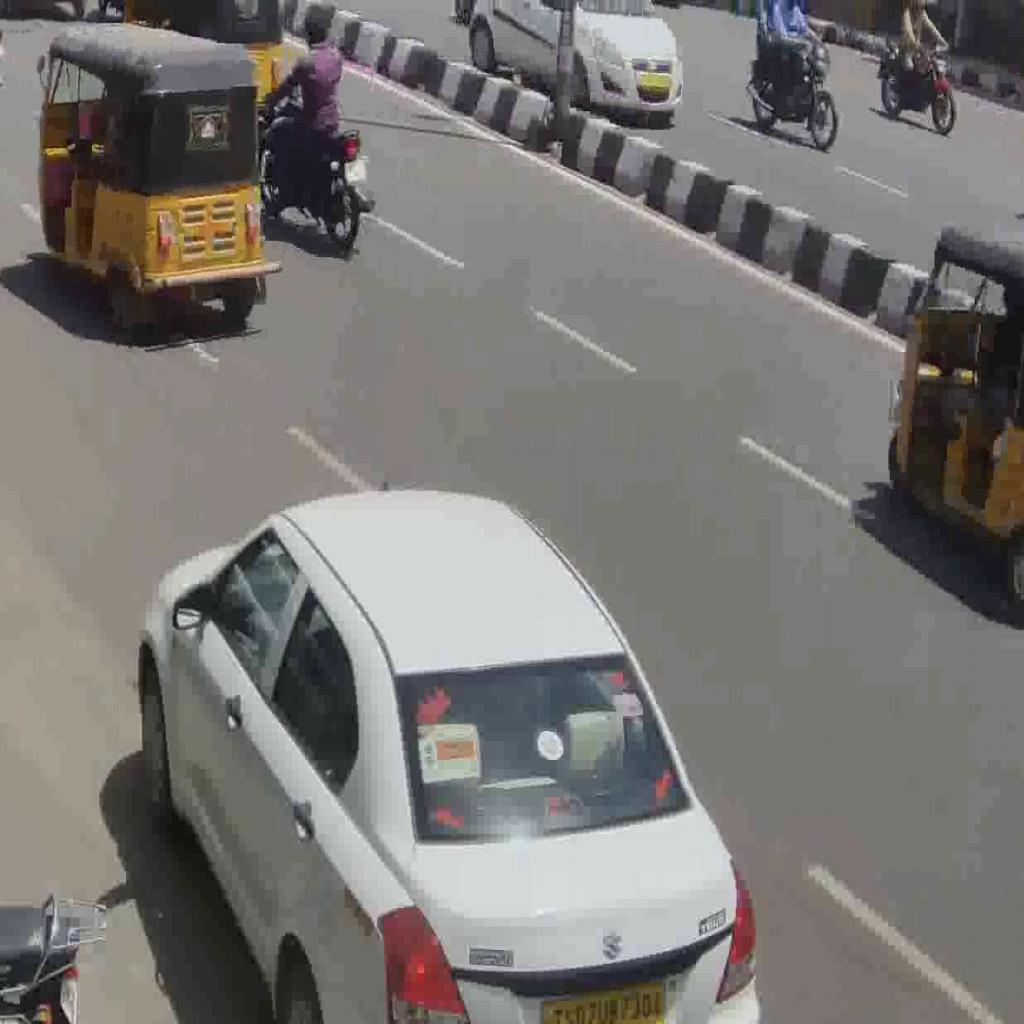helmet: (257, 77, 377, 248)
